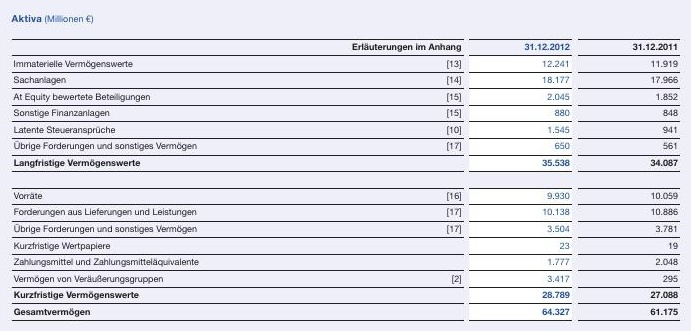table: (0, 0, 691, 331)
